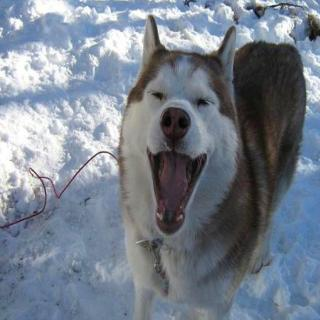dog: (117, 14, 245, 255)
nose: (158, 105, 193, 147)
